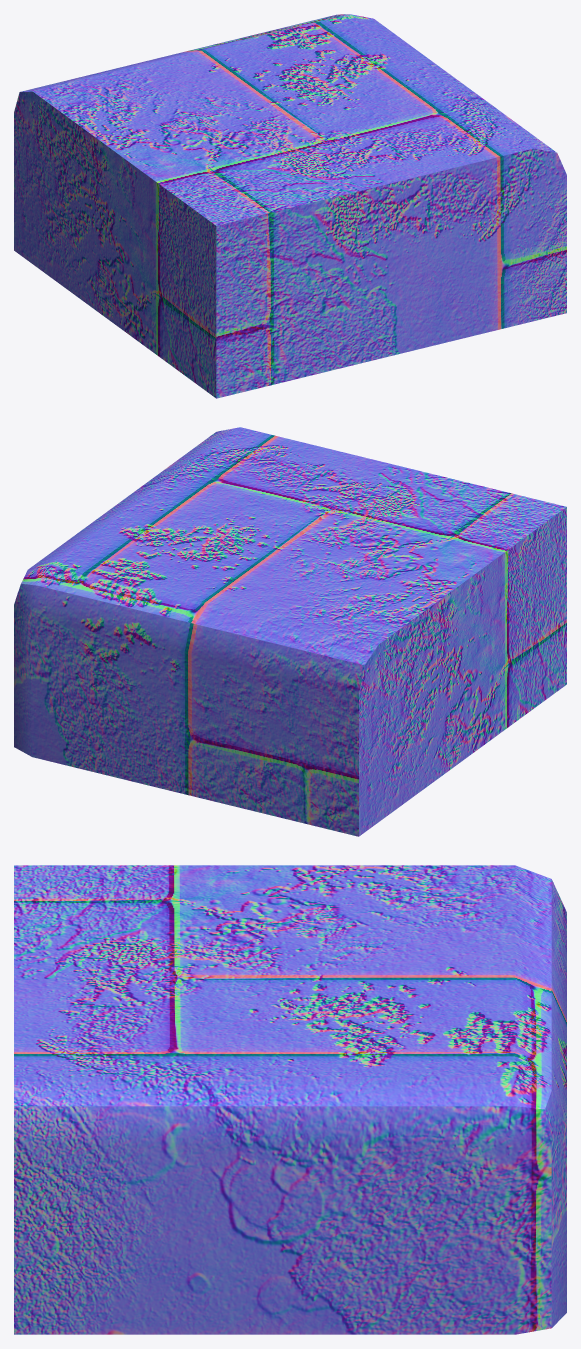
The model's file is floor square.fbx.
3 views of the same model, one above another, from view 1: azimuth 30°, elevation 25°; view 2: azimuth 150°, elevation 25°; view 3: azimuth 270°, elevation 25° (orthographic). The views are drawn at different scales.
Parts seen in each view (by area): view 1: pPlane25; view 2: pPlane25; view 3: pPlane25.
Boxes of the visible parts, box(x1,y1,x2,y2) form: pPlane25: box(14, 14, 566, 398); pPlane25: box(14, 427, 566, 836); pPlane25: box(14, 865, 566, 1334).
Size of the model in its own units: 100 by 47.07 by 100.
Materials: 1 (1 with a texture image).
